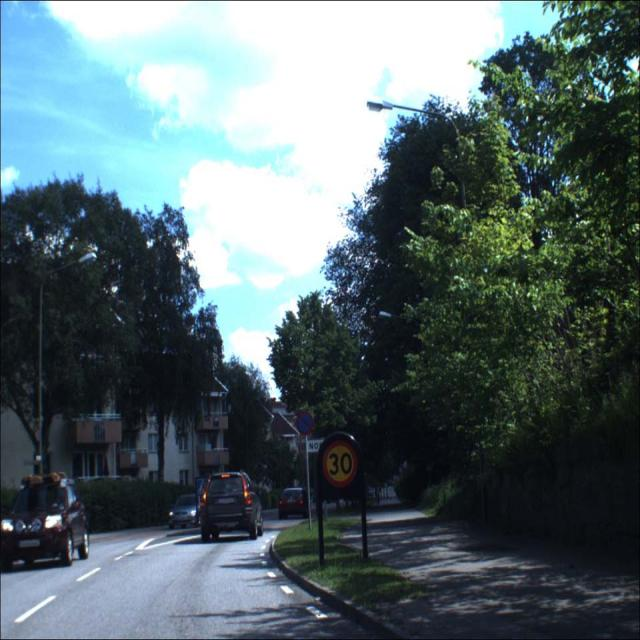30: (323, 440, 358, 489)
parkyasak: (295, 411, 312, 436)
